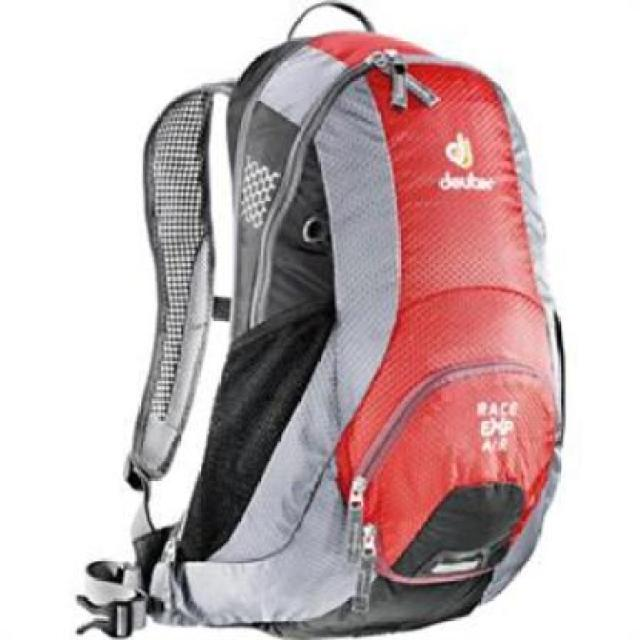backpack: (71, 0, 575, 640)
